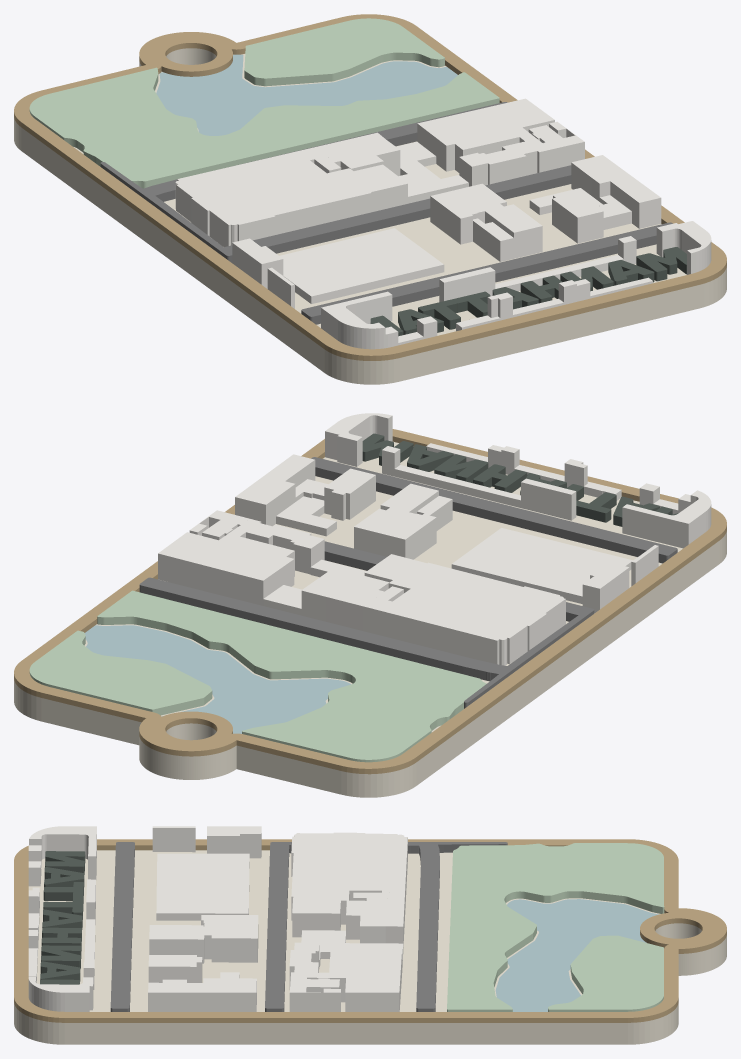
File: keychain-water.glb
The picture shows the model from 3 angles, top to bottom: view 1: azimuth 30°, elevation 25°; view 2: azimuth 150°, elevation 25°; view 3: azimuth 270°, elevation 25°; orthographic projection. The views are drawn at different scales.
Parts seen in each view (by area): view 1: Buildings, Parks, Base, Rim, Roads, Water, Text; view 2: Buildings, Parks, Base, Rim, Roads, Water, Text; view 3: Buildings, Base, Parks, Rim, Roads, Water, Text.
Part boxes in pixels (bbox=[...]): Buildings: bbox=[175, 98, 711, 349]; Parks: bbox=[29, 18, 499, 188]; Base: bbox=[14, 48, 726, 384]; Rim: bbox=[14, 14, 726, 360]; Roads: bbox=[100, 102, 672, 324]; Water: bbox=[156, 54, 457, 135]; Text: bbox=[370, 247, 686, 336]; Buildings: bbox=[158, 413, 711, 665]; Parks: bbox=[29, 590, 486, 762]; Base: bbox=[14, 441, 726, 797]; Rim: bbox=[14, 429, 726, 774]; Roads: bbox=[139, 457, 677, 708]; Water: bbox=[84, 625, 350, 733]; Text: bbox=[362, 433, 678, 526]; Buildings: bbox=[28, 826, 407, 1011]; Base: bbox=[14, 850, 726, 1044]; Parks: bbox=[447, 843, 664, 1011]; Rim: bbox=[14, 839, 726, 1022]; Roads: bbox=[110, 842, 507, 1011]; Water: bbox=[495, 899, 658, 1011]; Text: bbox=[40, 851, 85, 984].
Size of the model in its own units: 35 by 4.2 by 59.
